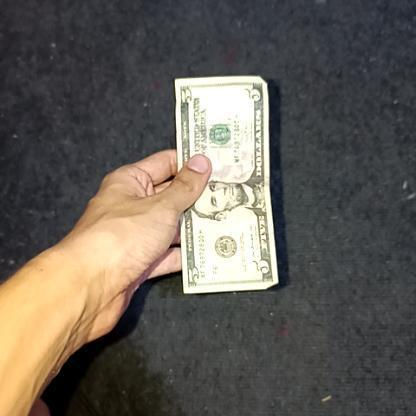five-front: (171, 72, 276, 294)
